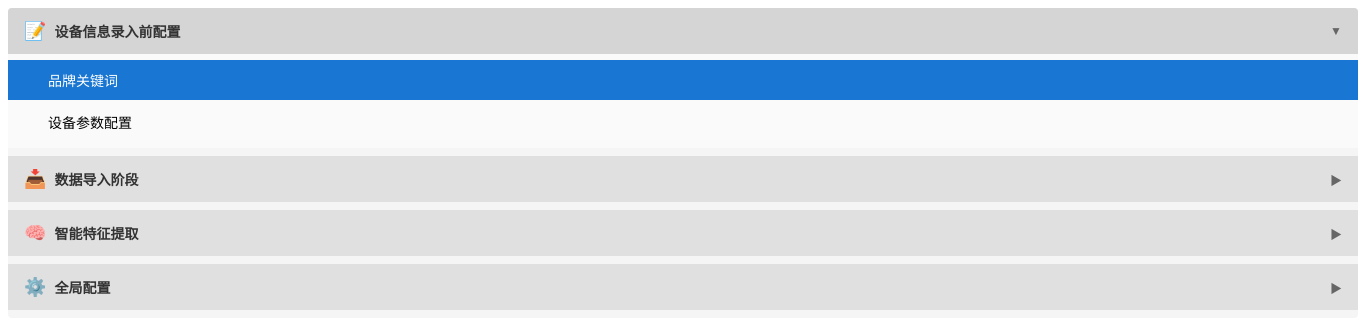
Scenario: MenuNavigation › 视觉指示器 › 折叠的阶段应该显示向右箭头
This screenshot has width=1366, height=327.
Click the element with class "stage-header" showing "📝 设备信息录入前配置 ▼": (683, 31) [8,8,1358,54]
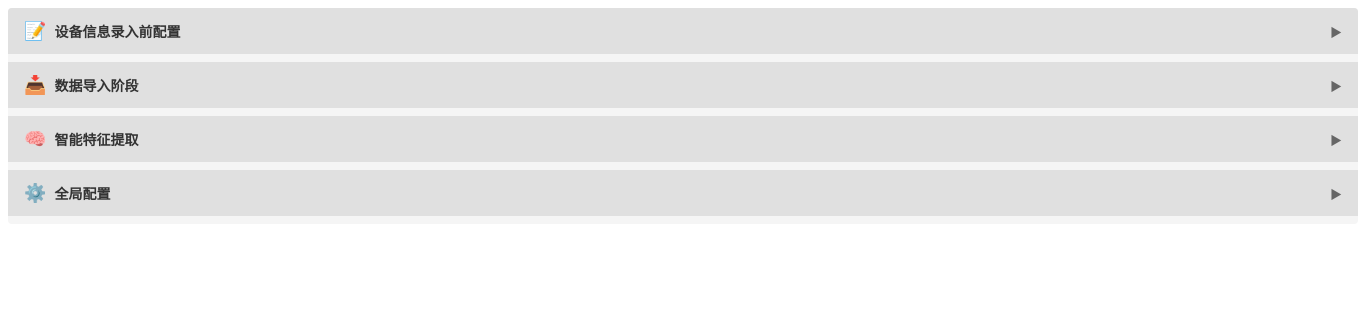
Expected: the text with class "expand-indicator" in the row of "设备信息录入前配置" reads "▶", [1330,26,1342,40]
